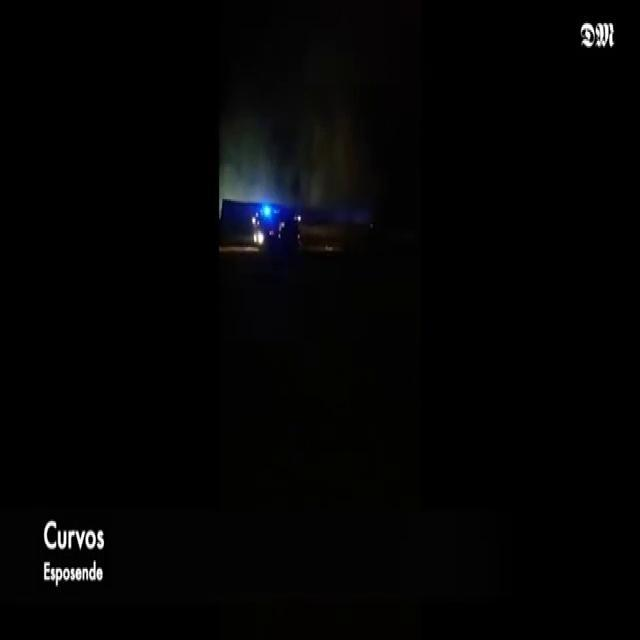Smoke: (225, 98, 395, 233)
